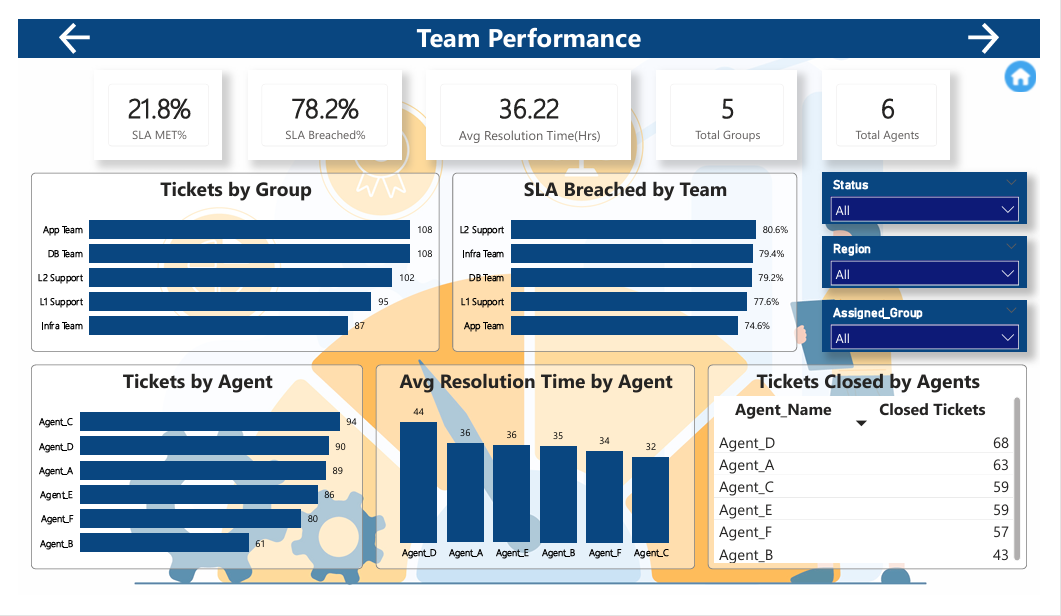

What the dashboard file says about the page in this screenshot:
{"tool":"powerbi","page":{"name":"Team Performance","canvas":[1280,720],"ordinal":2},"visuals":[{"type":"textbox","title":"Team Performance","box":[0,0,1280,48],"z":0},{"type":"actionButton","box":[48,0,96,48],"z":1000},{"type":"actionButton","box":[1184,0,96,48],"z":2000},{"type":"cardVisual","fields":{"Data":["Incident_Data_Set.SLA MET%"]},"box":[96,64,160,112],"z":3000},{"type":"cardVisual","fields":{"Data":["Incident_Data_Set.Avg Resoltion Time(Hrs)"]},"box":[512,64,256,112],"z":5000},{"type":"cardVisual","fields":{"Data":["Incident_Data_Set.Total Groups"]},"box":[800,64,176,112],"z":6000},{"type":"cardVisual","fields":{"Data":["Incident_Data_Set.Total Agents"]},"box":[1008,64,160,112],"z":7000},{"type":"clusteredBarChart","title":"Tickets by Group","fields":{"Category":["Incident_Data_Set.Assigned_Group"],"Y":["Incident_Data_Set.Total Tickets"]},"box":[16,192,512,224],"z":8000},{"type":"clusteredBarChart","title":"Tickets by Agent","fields":{"Category":["Incident_Data_Set.Agent_Name"],"Y":["Incident_Data_Set.Total Tickets"]},"box":[16,432,416,256],"z":9000},{"type":"clusteredColumnChart","title":"Avg Resolution Time by Agent","fields":{"Category":["Incident_Data_Set.Agent_Name"],"Y":["Incident_Data_Set.Avg Resolution Time(Hrs)"]},"box":[448,432,400,256],"z":10000},{"type":"clusteredBarChart","title":"SLA Breached by Team","fields":{"Category":["Incident_Data_Set.Assigned_Group"],"Y":["Incident_Data_Set.SLA Breached%"]},"box":[544,192,432,224],"z":11000},{"type":"tableEx","title":"Tickets Closed by Agents","fields":{"Values":["Incident_Data_Set.Agent_Name","Incident_Data_Set.Closed Tickets"]},"box":[864,432,400,256],"z":12000},{"type":"slicer","fields":{"Values":["Incident_Data_Set.Status"]},"box":[1008,192,256,64],"z":12003},{"type":"slicer","fields":{"Values":["Incident_Data_Set.Region"]},"box":[1008,272,256,64],"z":12004},{"type":"slicer","fields":{"Values":["Incident_Data_Set.Assigned_Group"]},"box":[1008,352,256,64],"z":12005},{"type":"cardVisual","fields":{"Data":["Incident_Data_Set.SLA Breached%"]},"box":[288,64,192,112],"z":12006},{"type":"actionButton","box":[1232,48,48,48],"z":12007}]}

Visuals, with their boxes on the page's 1280x720 design canvas (x1, y1, x2, y2). These are canvas units, not pixel positions in the 1061x616 screenshot, which may show the page scaled, cropped or inside an application window:
"Team Performance" textbox: 0:0:1280:48
actionButton: 48:0:144:48
actionButton: 1184:0:1280:48
cardVisual - Incident_Data_Set.SLA MET%: 96:64:256:176
cardVisual - Incident_Data_Set.Avg Resoltion Time(Hrs): 512:64:768:176
cardVisual - Incident_Data_Set.Total Groups: 800:64:976:176
cardVisual - Incident_Data_Set.Total Agents: 1008:64:1168:176
"Tickets by Group" clusteredBarChart: 16:192:528:416
"Tickets by Agent" clusteredBarChart: 16:432:432:688
"Avg Resolution Time by Agent" clusteredColumnChart: 448:432:848:688
"SLA Breached by Team" clusteredBarChart: 544:192:976:416
"Tickets Closed by Agents" tableEx: 864:432:1264:688
slicer - Incident_Data_Set.Status: 1008:192:1264:256
slicer - Incident_Data_Set.Region: 1008:272:1264:336
slicer - Incident_Data_Set.Assigned_Group: 1008:352:1264:416
cardVisual - Incident_Data_Set.SLA Breached%: 288:64:480:176
actionButton: 1232:48:1280:96
